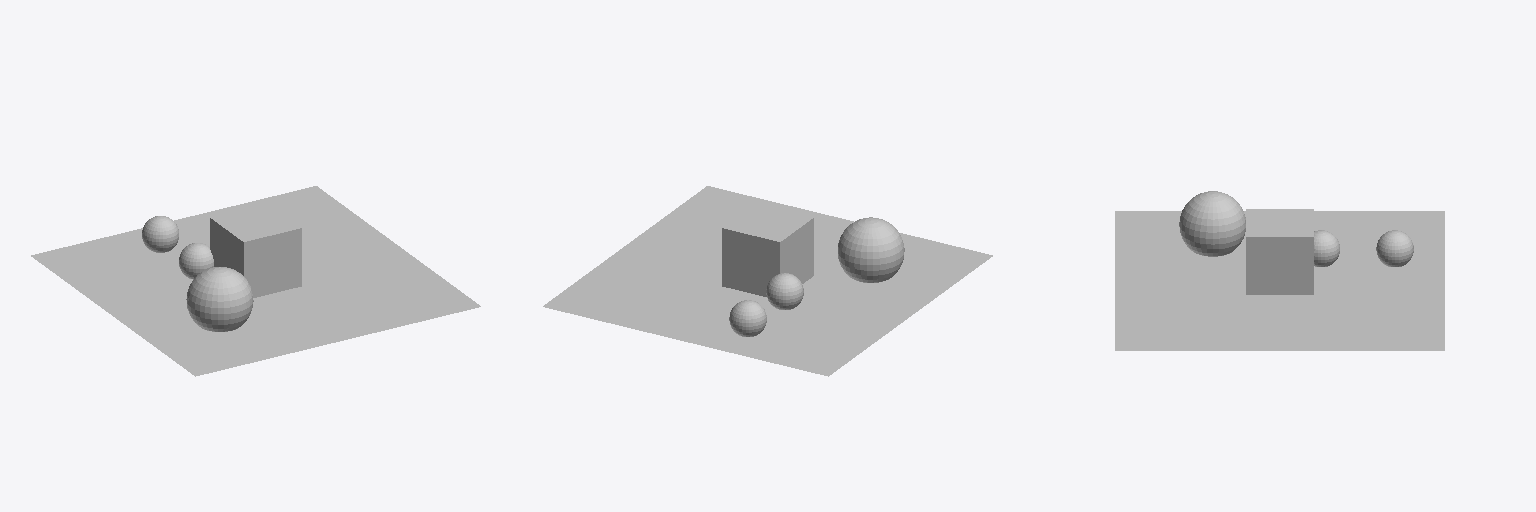
Rendered from visibility.obj.
3 views of the same model, side by side, from view 1: azimuth 30°, elevation 25°; view 2: azimuth 150°, elevation 25°; view 3: azimuth 270°, elevation 25° (orthographic).
Parts seen in each view (by area): view 1: Plane, Cube_Cube.001, Sphere, Sphere.001, Sphere.002; view 2: Plane, Cube_Cube.001, Sphere, Sphere.001, Sphere.002; view 3: Plane, Cube_Cube.001, Sphere, Sphere.001, Sphere.002.
Part boxes in pixels (bbox=[...]): Plane: bbox=[31, 186, 480, 376]; Cube_Cube.001: bbox=[210, 204, 301, 297]; Sphere: bbox=[186, 267, 253, 331]; Sphere.001: bbox=[142, 216, 178, 252]; Sphere.002: bbox=[179, 243, 213, 279]; Plane: bbox=[543, 186, 992, 376]; Cube_Cube.001: bbox=[722, 204, 813, 296]; Sphere: bbox=[838, 217, 904, 282]; Sphere.001: bbox=[729, 300, 766, 336]; Sphere.002: bbox=[766, 273, 803, 309]; Plane: bbox=[1115, 211, 1444, 350]; Cube_Cube.001: bbox=[1246, 209, 1313, 294]; Sphere: bbox=[1179, 191, 1245, 256]; Sphere.001: bbox=[1376, 230, 1413, 266]; Sphere.002: bbox=[1314, 230, 1339, 266].
Size of the model in its own units: 9.83 by 2.17 by 9.83.